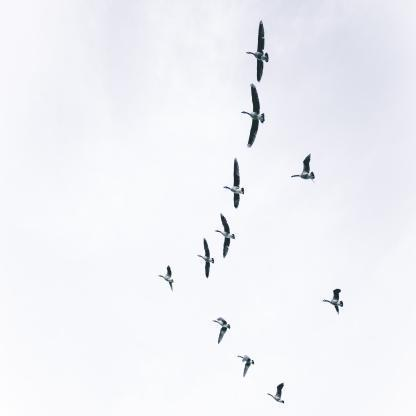bird: (241, 83, 265, 147), (246, 19, 268, 81), (224, 158, 244, 208), (215, 213, 236, 259), (196, 238, 214, 278), (290, 152, 315, 179), (212, 316, 231, 345), (323, 289, 343, 316), (158, 265, 174, 293), (237, 354, 255, 377), (267, 382, 285, 403)
